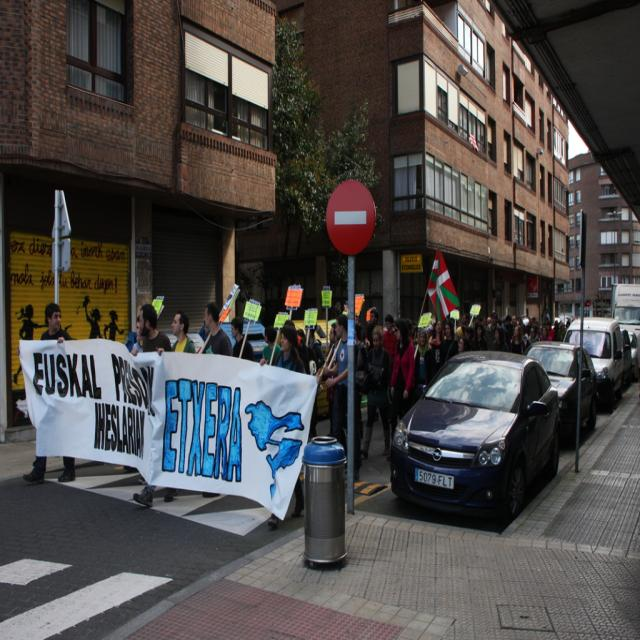car: (388, 345, 564, 525)
